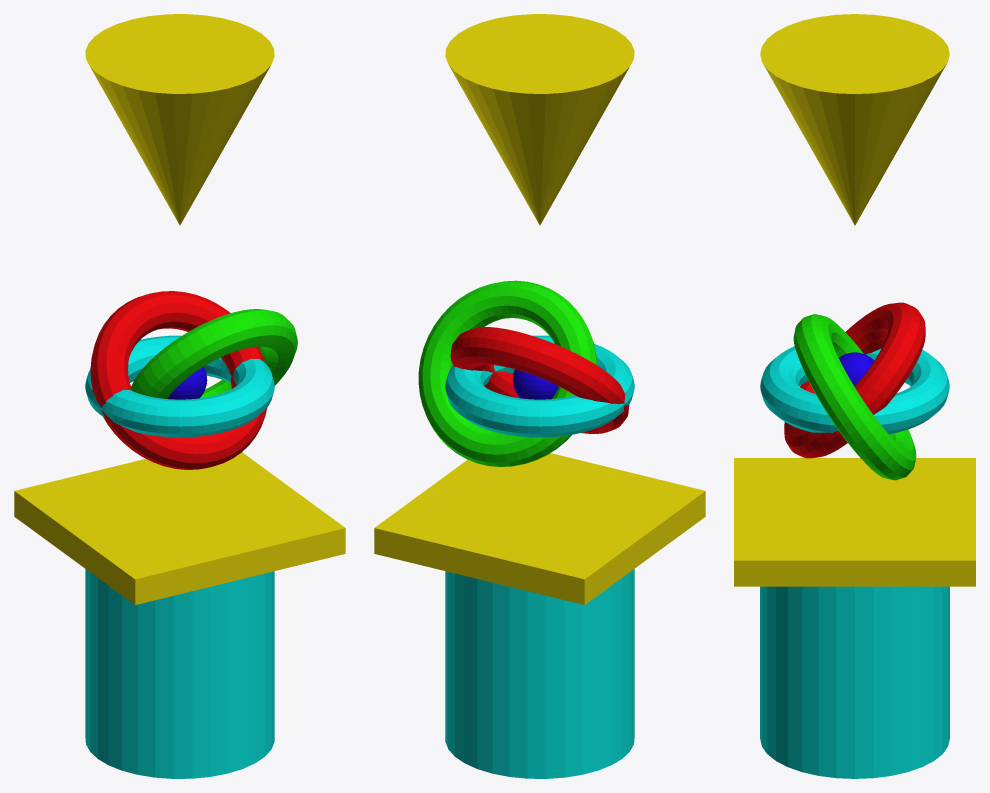
File: animation.glb
3 views of the same model, side by side, from view 1: azimuth 30°, elevation 25°; view 2: azimuth 150°, elevation 25°; view 3: azimuth 270°, elevation 25° (orthographic).
Visible parts, largest first — view 1: Cylinder, Cube, Cone, Torus, Torus.003, Torus.001, Sphere; view 2: Cylinder, Cube, Cone, Torus.001, Torus.003, Torus, Sphere; view 3: Cylinder, Cube, Cone, Torus.001, Torus.003, Torus, Sphere.
Boxes of the visible parts, box(x1,y1,x2,y2) form: Cylinder: box(85, 569, 274, 778); Cube: box(14, 452, 345, 604); Cone: box(85, 14, 274, 225); Torus: box(90, 291, 267, 469); Torus.003: box(85, 335, 274, 437); Torus.001: box(131, 309, 297, 398); Sphere: box(167, 366, 207, 399); Cylinder: box(445, 569, 634, 778); Cube: box(374, 453, 705, 604); Cone: box(445, 14, 634, 225); Torus.001: box(418, 280, 597, 466); Torus.003: box(445, 335, 634, 437); Torus: box(450, 327, 629, 433); Sphere: box(512, 369, 558, 399); Cylinder: box(760, 586, 949, 778); Cube: box(734, 458, 975, 586); Cone: box(760, 14, 949, 225); Torus.001: box(793, 314, 916, 480); Torus.003: box(760, 346, 949, 434); Torus: box(784, 302, 925, 458); Sphere: box(839, 352, 874, 386).
Bounding box in the file's own units: 2.67 × 7.97 × 2.55.
